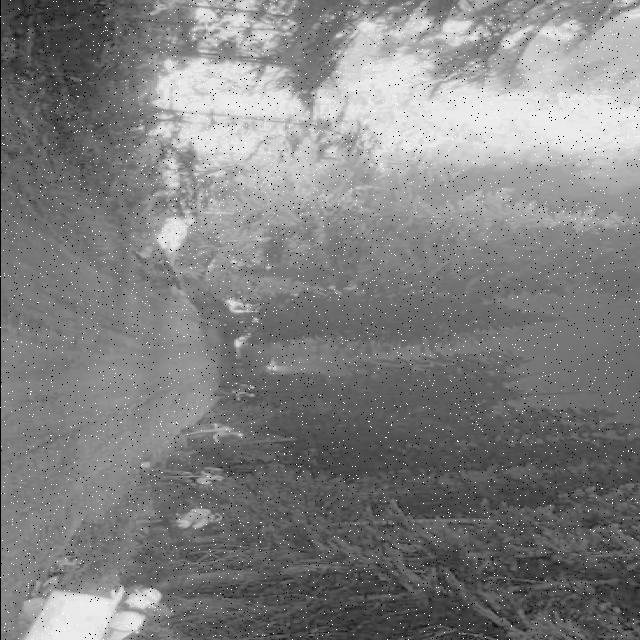api: (163, 38, 627, 158), (152, 221, 191, 257)
